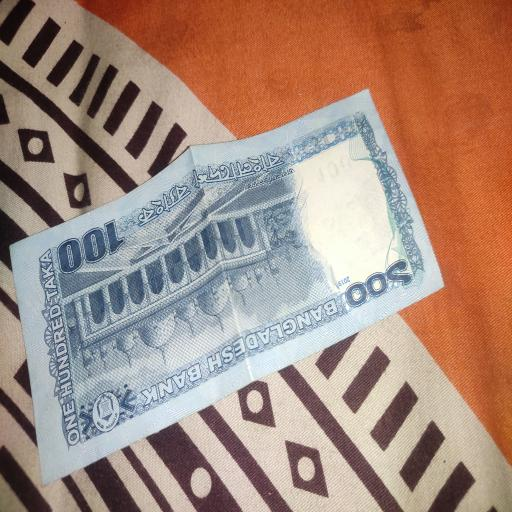100taka: (8, 87, 446, 483)
